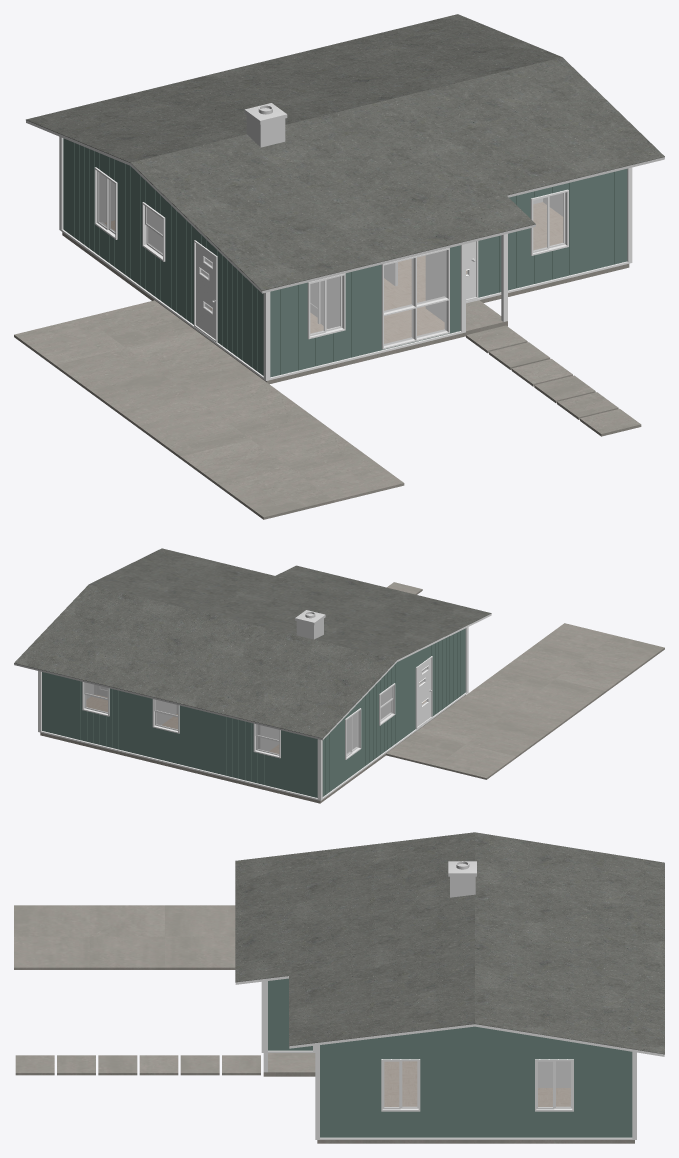
The model's file is casa_mayflower.glb.
3 renders of one model, top to bottom at view 1: azimuth 30°, elevation 25°; view 2: azimuth 150°, elevation 25°; view 3: azimuth 270°, elevation 25°, orthographic. The views are drawn at different scales.
Visible parts, largest first — view 1: mf-371-roof, mf-371-concreteTiles, mf-371-plywood_panels, mf-371-walls, mf-371-windowLarge.001, mf-371-supportBeams, mf-371-foundation, mf-371-windowDouble.001, mf-371-windowDouble.002, mf-371-doorFront_C.002, mf-371-chimney, mf-371-windowDouble.005 (+1 smaller); view 2: mf-371-roof, mf-371-plywood_panels, mf-371-concreteTiles, mf-371-supportBeams, mf-371-walls, mf-371-foundation, mf-371-doorFront_C.002, mf-371-windowSingleSmall.003, mf-371-windowSingleSmall.002, mf-371-windowSingleSmall.004, mf-371-chimney, mf-371-windowDouble.005 (+1 smaller); view 3: mf-371-roof, mf-371-plywood_panels, mf-371-concreteTiles, mf-371-walls, mf-371-supportBeams, mf-371-foundation, mf-371-windowDouble.003, mf-371-windowDouble.004, mf-371-chimney.
Boxes of the visible parts, bbox=[...] form: mf-371-roof: bbox=[26, 14, 664, 293]; mf-371-concreteTiles: bbox=[14, 300, 641, 519]; mf-371-plywood_panels: bbox=[63, 138, 627, 377]; mf-371-walls: bbox=[102, 175, 562, 343]; mf-371-windowLarge.001: bbox=[381, 248, 449, 349]; mf-371-supportBeams: bbox=[59, 136, 632, 380]; mf-371-foundation: bbox=[62, 232, 629, 384]; mf-371-windowDouble.001: bbox=[307, 273, 345, 339]; mf-371-windowDouble.002: bbox=[530, 189, 568, 255]; mf-371-doorFront_C.002: bbox=[196, 243, 215, 339]; mf-371-chimney: bbox=[244, 103, 287, 147]; mf-371-windowDouble.005: bbox=[94, 167, 117, 239]; mf-371-roof: bbox=[14, 548, 491, 740]; mf-371-plywood_panels: bbox=[42, 628, 465, 797]; mf-371-concreteTiles: bbox=[386, 582, 664, 779]; mf-371-supportBeams: bbox=[38, 627, 468, 800]; mf-371-walls: bbox=[86, 668, 425, 753]; mf-371-foundation: bbox=[40, 695, 465, 803]; mf-371-doorFront_C.002: bbox=[417, 658, 431, 726]; mf-371-windowSingleSmall.003: bbox=[152, 699, 179, 733]; mf-371-windowSingleSmall.002: bbox=[82, 682, 109, 716]; mf-371-windowSingleSmall.004: bbox=[253, 723, 280, 758]; mf-371-chimney: bbox=[295, 610, 325, 639]; mf-371-windowDouble.005: bbox=[345, 708, 361, 759]; mf-371-roof: bbox=[235, 832, 664, 1056]; mf-371-plywood_panels: bbox=[268, 978, 632, 1137]; mf-371-concreteTiles: bbox=[14, 905, 260, 1075]; mf-371-walls: bbox=[384, 1061, 570, 1106]; mf-371-supportBeams: bbox=[261, 981, 636, 1139]; mf-371-foundation: bbox=[263, 1053, 634, 1143]; mf-371-windowDouble.003: bbox=[381, 1059, 420, 1111]; mf-371-windowDouble.004: bbox=[535, 1059, 573, 1111]; mf-371-chimney: bbox=[448, 861, 476, 897].
Size of the model in its own units: 13.95 by 4.1 by 15.67.
10 materials, 4 textured.
